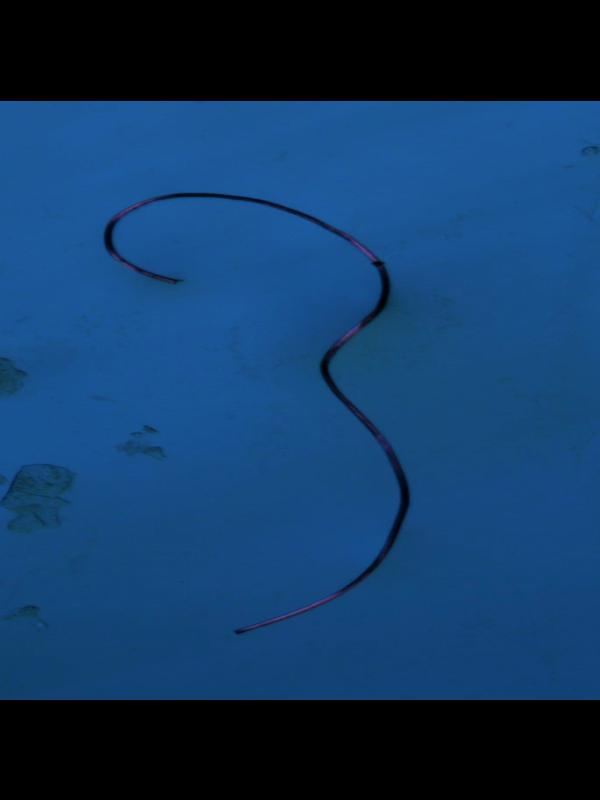microplastic: (100, 190, 411, 633)
